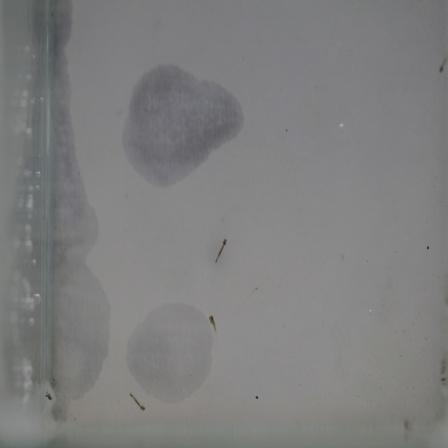Jentik-Nyamuk: (128, 387, 150, 415), (214, 233, 229, 267), (205, 313, 219, 334)
